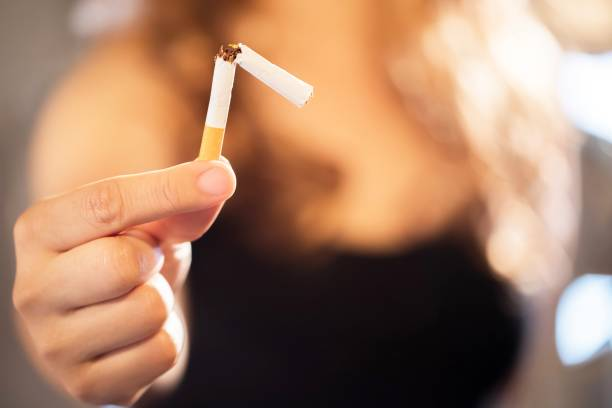cigarette: (231, 43, 315, 108), (196, 40, 238, 163)
